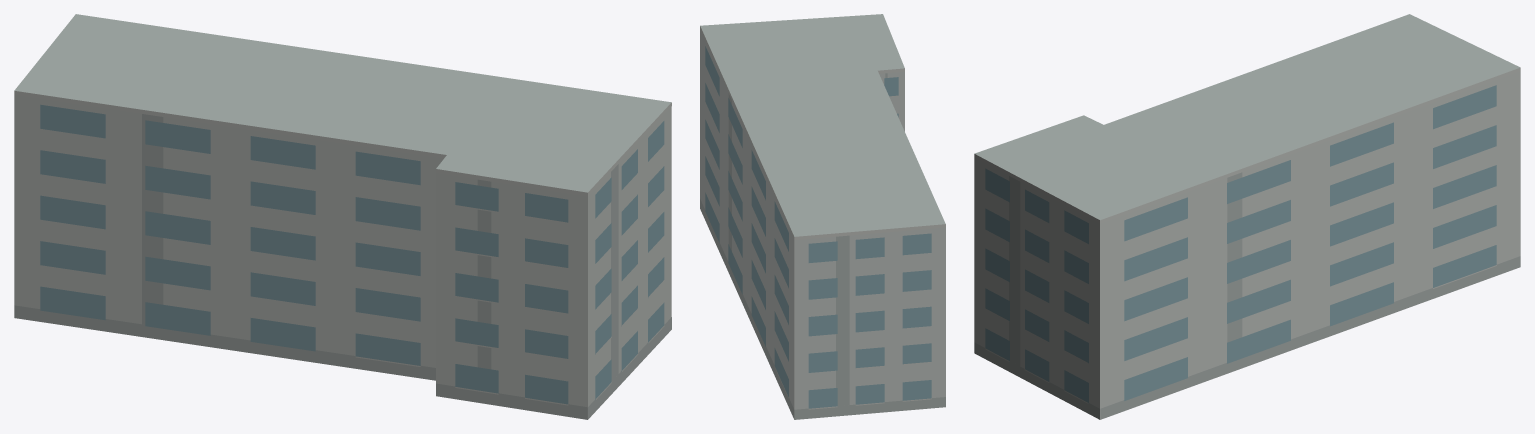
The model's file is survey-upis-32626505.glb.
3 views of the same model, side by side, from view 1: azimuth 30°, elevation 25°; view 2: azimuth 150°, elevation 25°; view 3: azimuth 270°, elevation 25° (orthographic). The views are drawn at different scales.
Parts seen in each view (by area): view 1: survey-upis-32626505.tmp; view 2: survey-upis-32626505.tmp; view 3: survey-upis-32626505.tmp.
Part boxes in pixels (<box>): survey-upis-32626505.tmp: <box>14,14,671,419</box>; survey-upis-32626505.tmp: <box>700,14,945,419</box>; survey-upis-32626505.tmp: <box>974,14,1520,419</box>.
Size of the model in its own units: 29.48 by 13.3 by 33.
